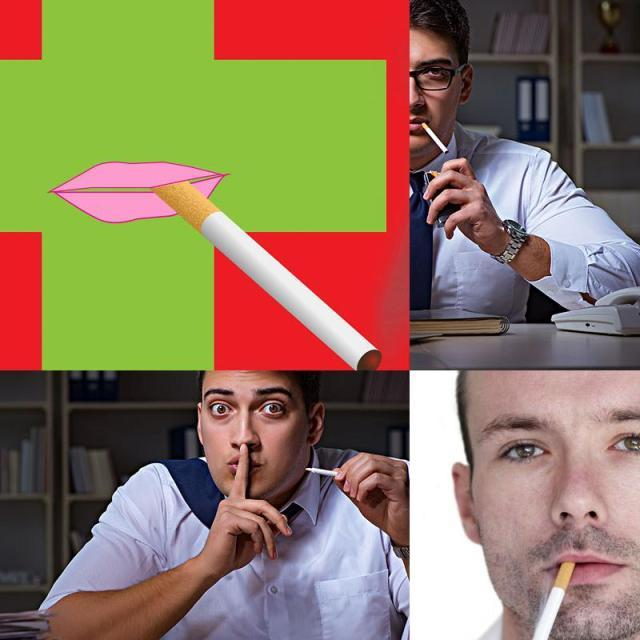smoking: (153, 178, 384, 370), (526, 560, 578, 639), (418, 111, 450, 158), (302, 468, 348, 480)
